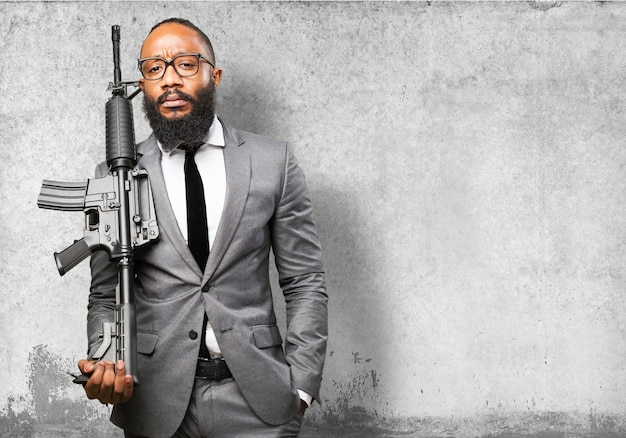gun: (36, 21, 163, 390)
